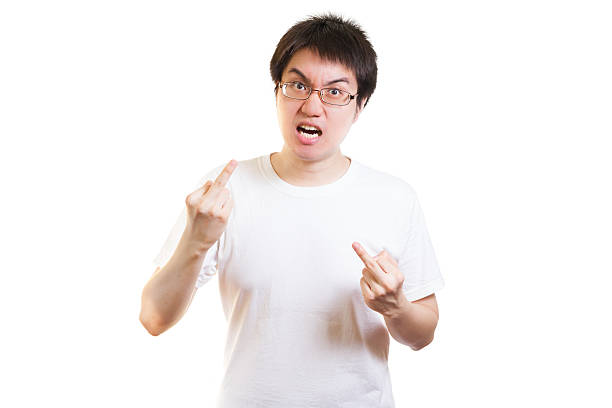insulting_gesture: (184, 158, 239, 241), (353, 240, 405, 314)
